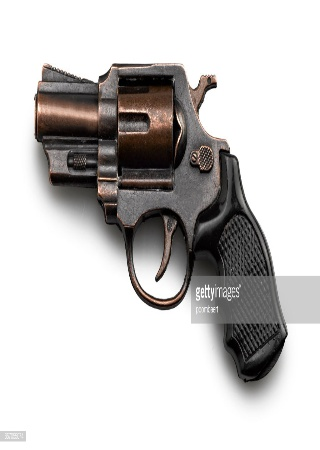handgun: (30, 55, 289, 382)
